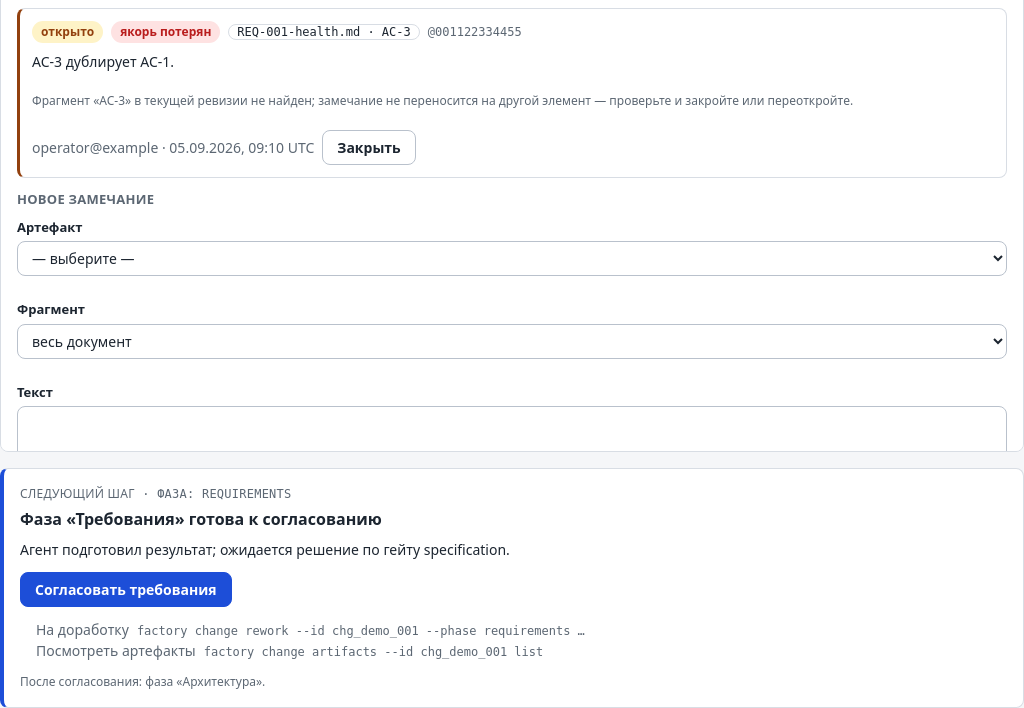
it: ChangeSetPage (T088, ADR-037 p.4) › shows the 409 detail of a stale approval and offers a reload
(page scrolled)
Click the button with test id "next-step-primary" at (126, 590), box 20,572 -> 232,607
(page scrolled)
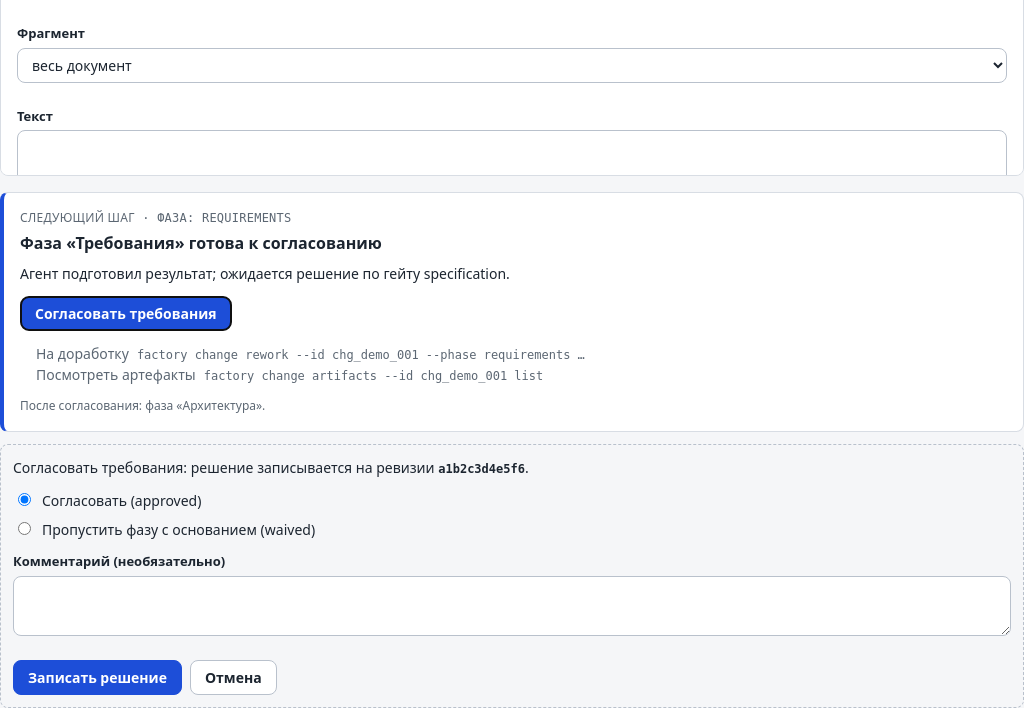
Click the button with test id "approval-submit" at (98, 677), box 13,660 -> 182,694
(page scrolled)
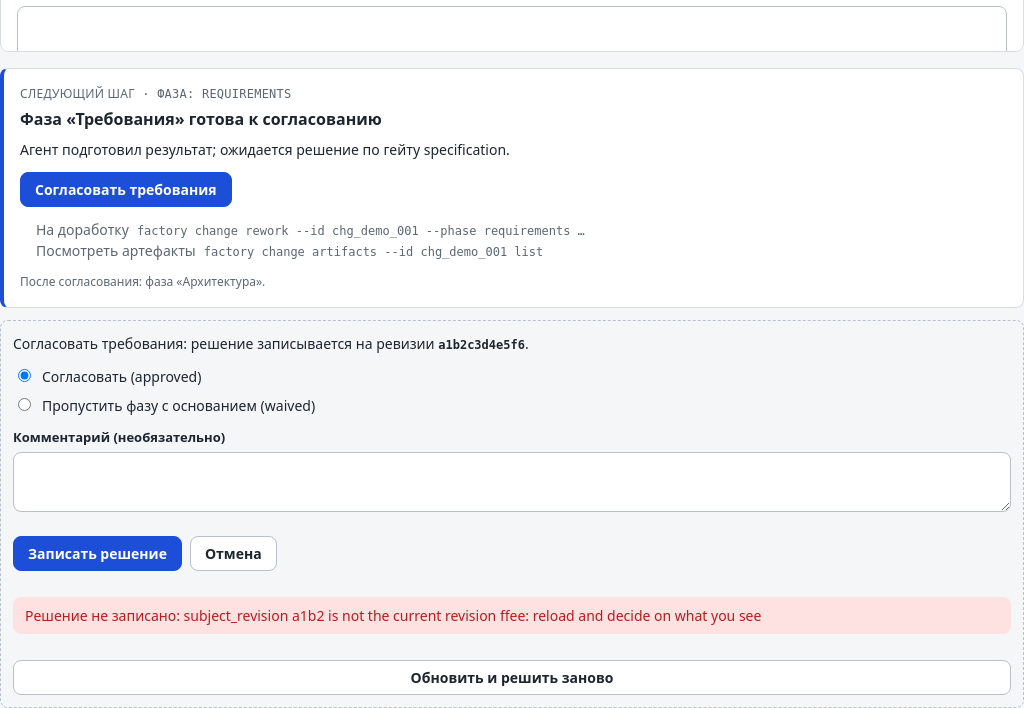
Check: the text "reload and decide on what you see" is shown, box 184,606 -> 762,624
Check: the button with test id "approval-reload" is shown, box 13,660 -> 1011,694
